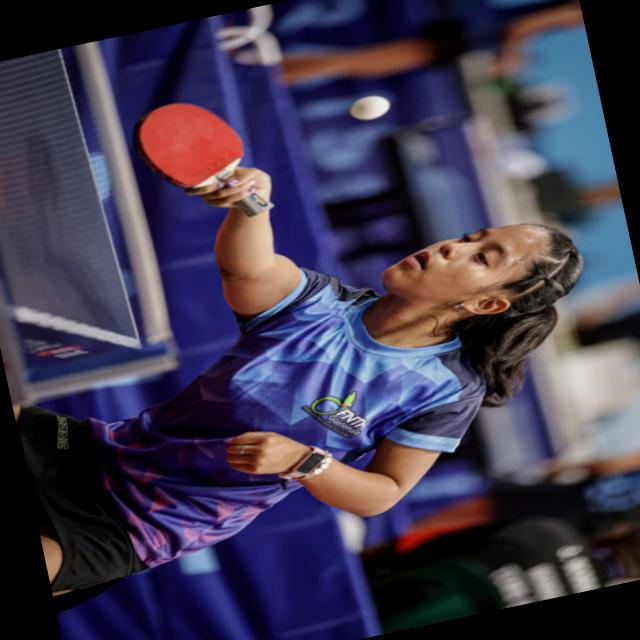TT Net: (0, 39, 181, 405)
TT Racket: (123, 67, 302, 247)
TT Table: (0, 44, 142, 375)
